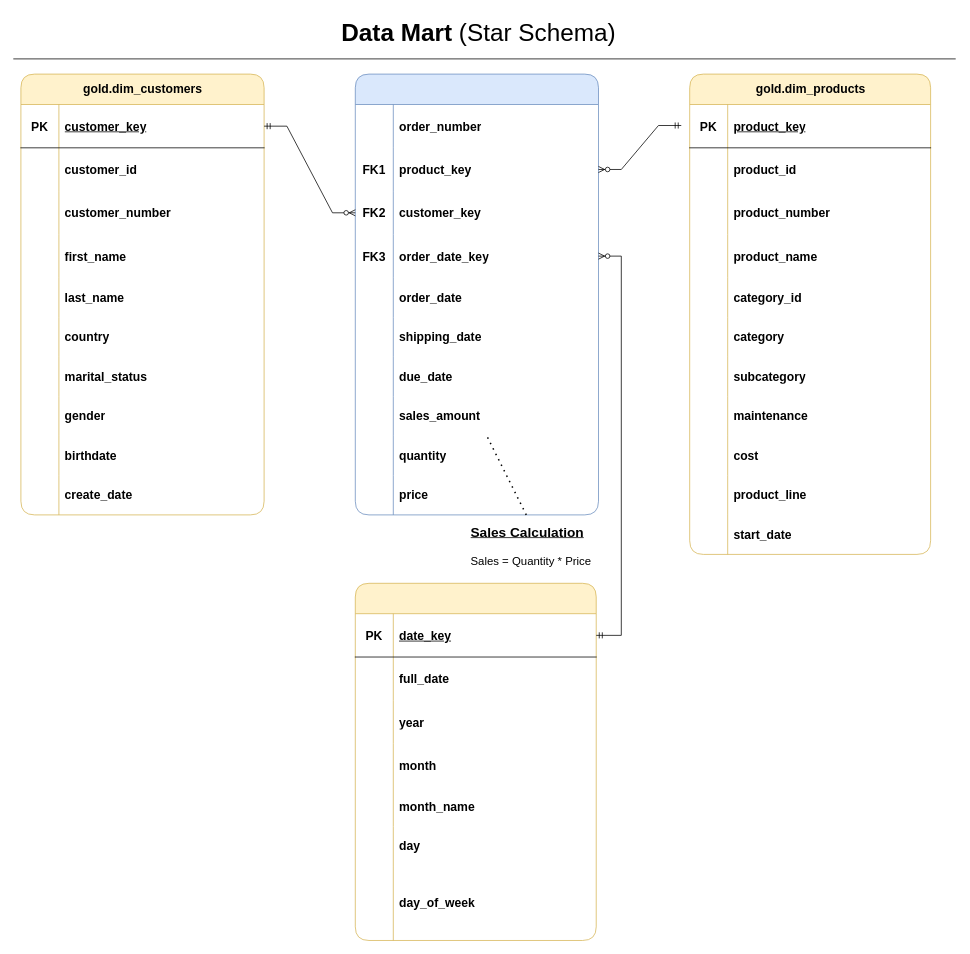
The diagram is 970 pixels wide and 954 high, and some of its shapes have lost their labels. The box of each missing label's shape, as (x1, y1, x2, y2) in pixels:
gold.dim_date: (355, 583, 596, 940)
gold.fact_sales: (355, 73, 598, 515)
